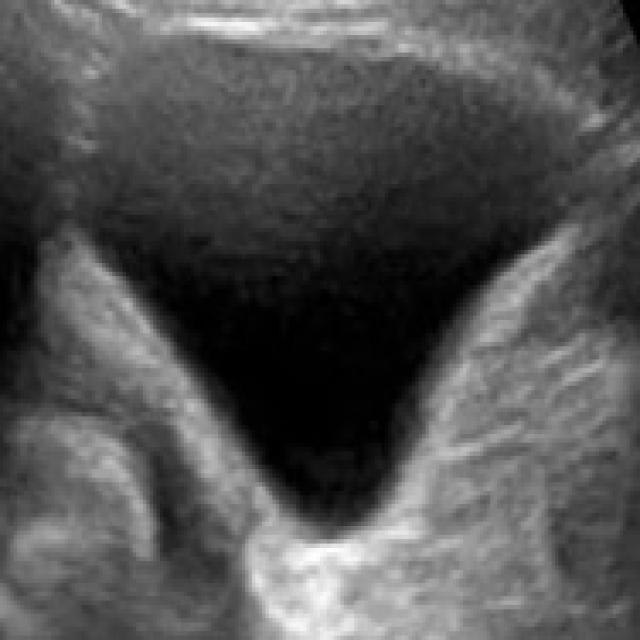bladder: (55, 10, 601, 583)
